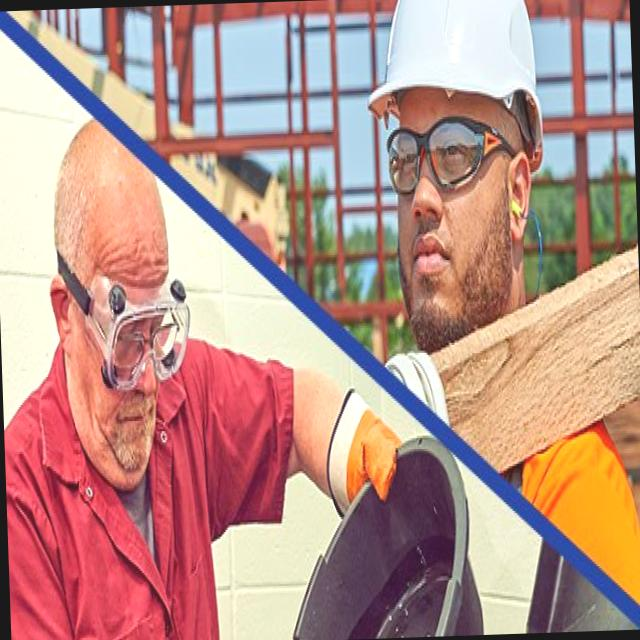goggles: (74, 255, 186, 394), (371, 106, 508, 212)
helmet: (358, 0, 548, 159)
no-helmet: (43, 116, 144, 186)
no-vest: (39, 389, 218, 640)
